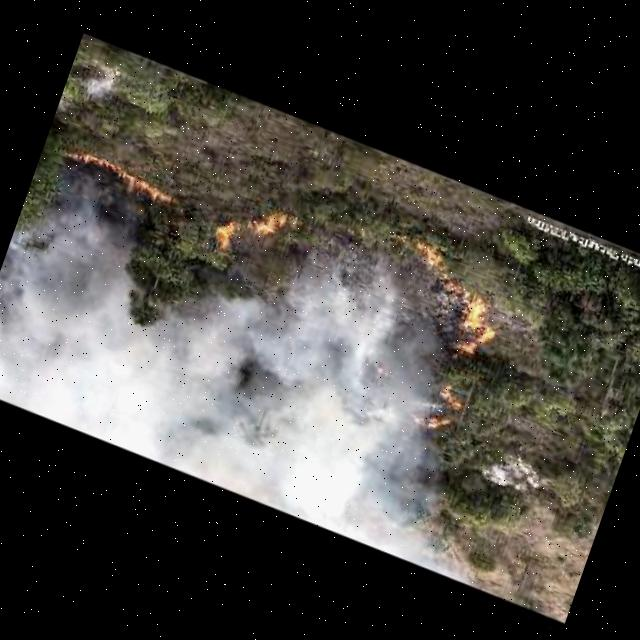Fire: (379, 230, 521, 376), (41, 130, 187, 217), (200, 181, 301, 277), (409, 364, 470, 440)
Smoke: (0, 193, 434, 542), (288, 229, 404, 331)
